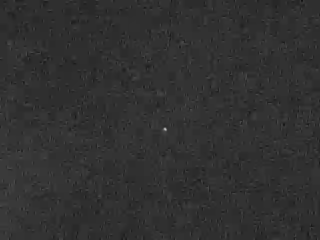Target: (163, 127, 166, 130)
